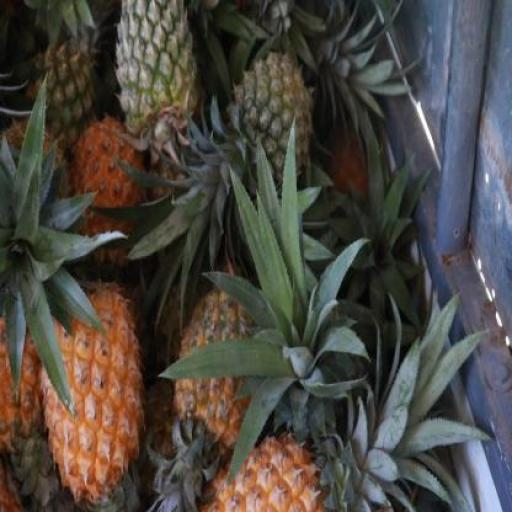Pineapple - v8 v1: (36, 274, 148, 500), (188, 431, 331, 511)
